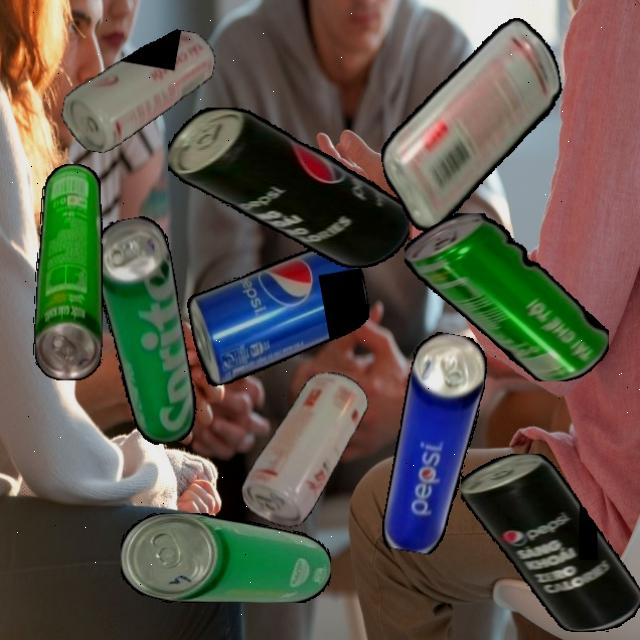debris: (362, 13, 582, 236), (167, 108, 410, 268), (403, 214, 609, 382), (460, 454, 640, 632), (182, 240, 377, 388), (225, 366, 386, 534), (90, 213, 202, 449), (379, 329, 492, 559), (58, 13, 218, 169), (121, 512, 331, 603), (32, 163, 103, 380)
